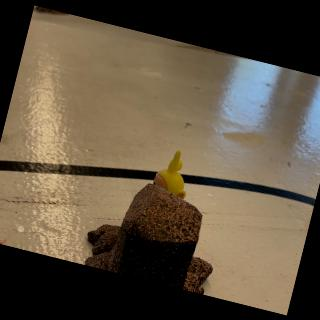teletubby: (152, 150, 185, 199)
